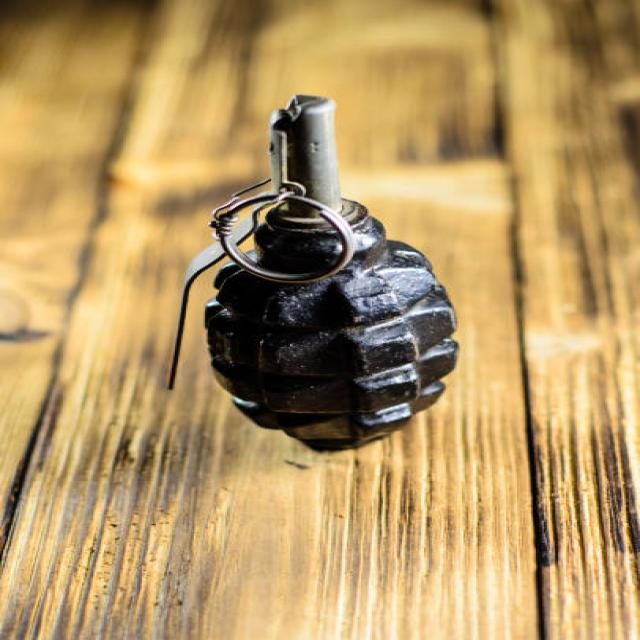grenade: (147, 87, 481, 465)
